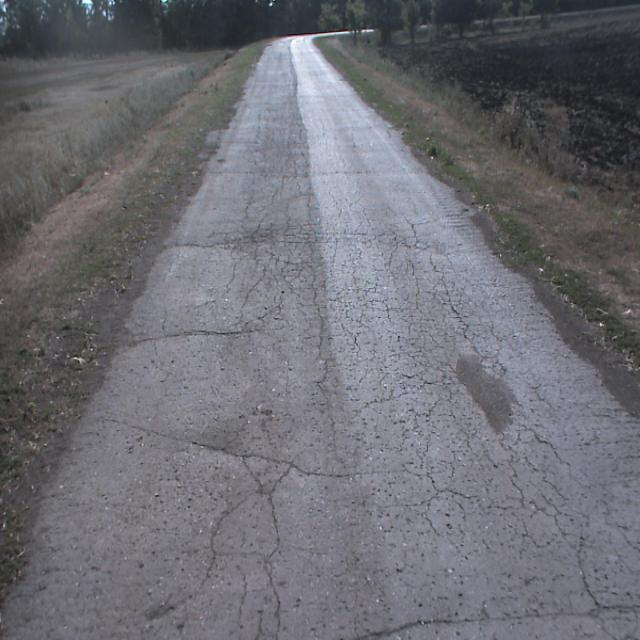road: (0, 30, 639, 639)
